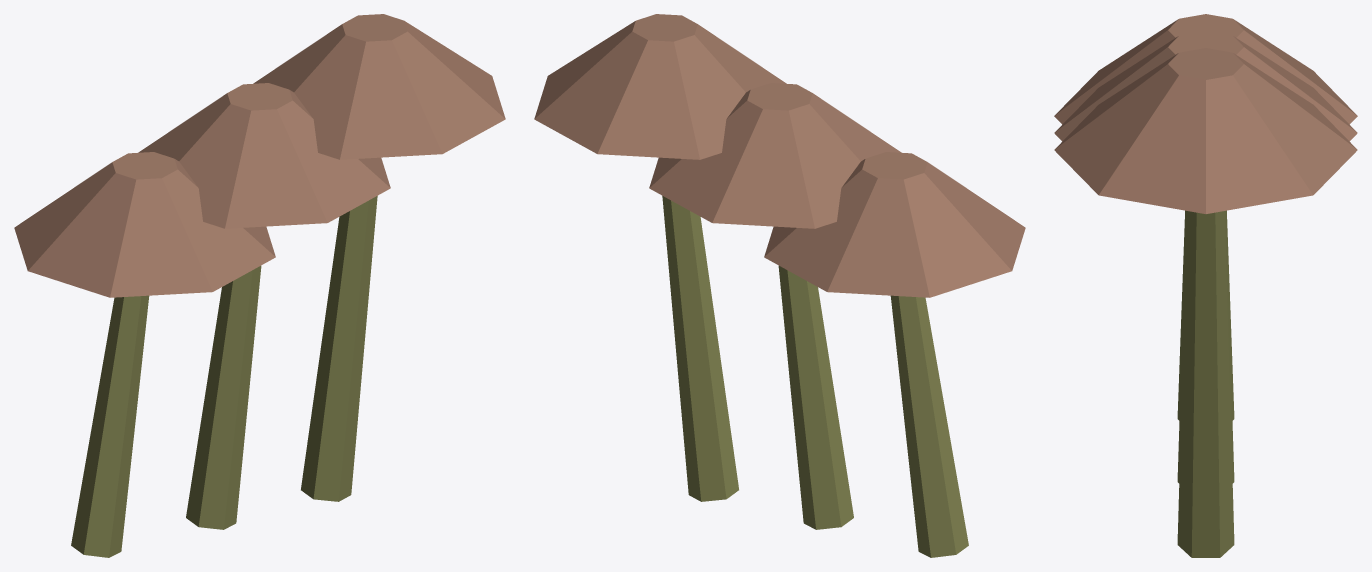
File: map-boundaries-v5__meadow_10.glb
3 renders of one model, left to right at view 1: azimuth 30°, elevation 25°; view 2: azimuth 150°, elevation 25°; view 3: azimuth 270°, elevation 25°, orthographic. The views are drawn at different scales.
Parts seen in each view (by area): view 1: meadow_10; view 2: meadow_10; view 3: meadow_10.
Part boxes in pixels (bbox=[...]): meadow_10: bbox=[14, 14, 505, 557]; meadow_10: bbox=[534, 14, 1025, 557]; meadow_10: bbox=[1054, 14, 1357, 557].
Size of the model in its own units: 1.9 by 1.78 by 0.96.
